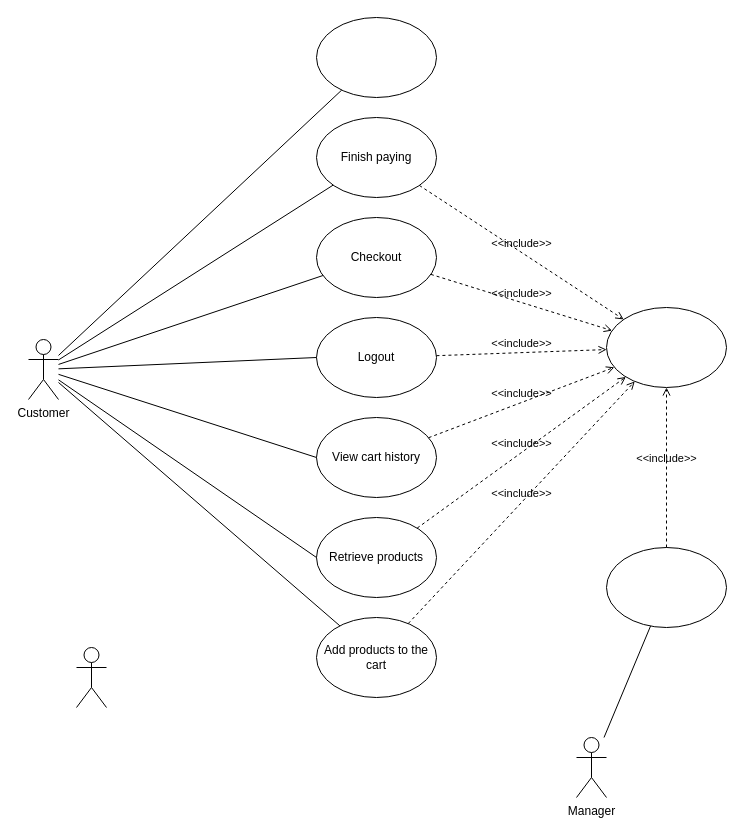
Image size: 744x836. Some labels were removed from this diagram. The centre of each missing label's shape, as x and y in pixels:
Login: the point at 666,347
Manage products: the point at 666,587
Sign Up: the point at 376,57
Store owner: the point at 91,677
